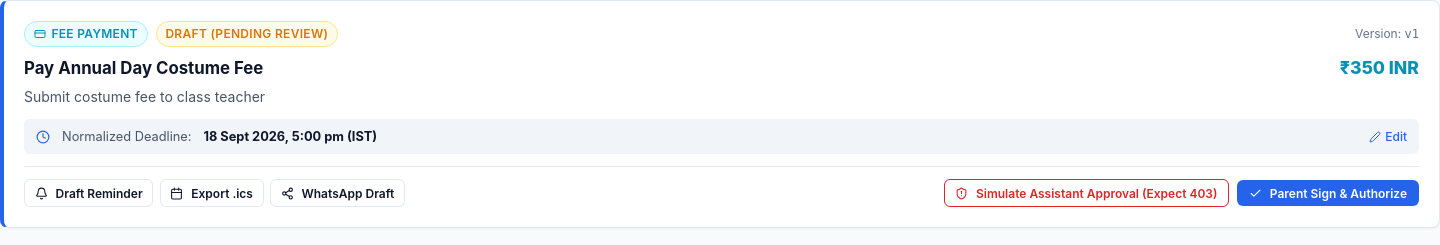
Test case: Schoolbag Frontend Core Workflow & Guardrails › renders .ics export button and WhatsApp draft copy button on action card
Expected: the button "Export .ics" is shown, [160, 179, 264, 207]
Expected: the text "WhatsApp Draft" is shown, [302, 186, 394, 201]
Click the button "WhatsApp Draft". click: (337, 193)
box: [270, 179, 405, 207]
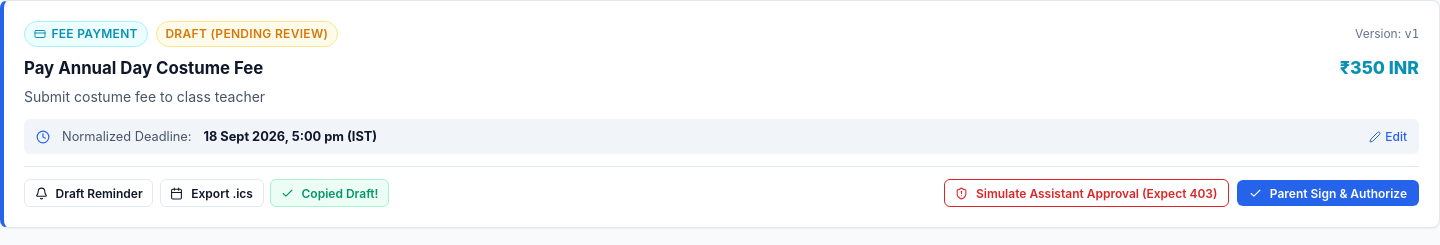
Result: the text "Copied Draft!" is shown at [302, 186, 378, 201]
